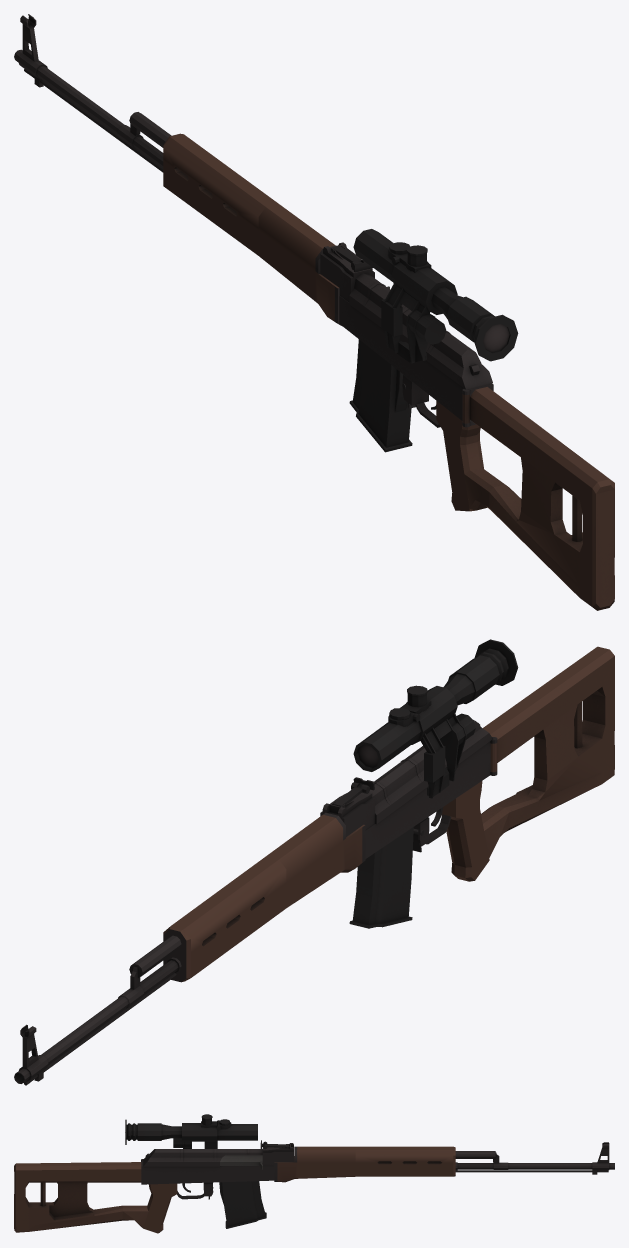
The model's file is SV_Sniper.fbx.
The picture shows the model from 3 angles, top to bottom: view 1: azimuth 30°, elevation 25°; view 2: azimuth 150°, elevation 25°; view 3: azimuth 270°, elevation 25°; orthographic projection. The views are drawn at different scales.
Visible parts, largest first — view 1: Stock_Sniper, Handguard_Sniper, PSO, Body, Magazine_Sniper, Barrel_Sniper, Grip; view 2: Stock_Sniper, Handguard_Sniper, PSO, Body, Barrel_Sniper, Magazine_Sniper, Grip; view 3: Stock_Sniper, Handguard_Sniper, Body, PSO, Barrel_Sniper, Magazine_Sniper, Grip, Bolt.
Boxes of the visible parts, left/top/right/bottom form: Stock_Sniper: left=462, top=387, right=614, bottom=610; Handguard_Sniper: left=163, top=133, right=342, bottom=326; PSO: left=353, top=229, right=518, bottom=363; Body: left=320, top=242, right=493, bottom=427; Magazine_Sniper: left=349, top=339, right=412, bottom=452; Barrel_Sniper: left=14, top=14, right=171, bottom=172; Grip: left=436, top=401, right=487, bottom=511; Stock_Sniper: left=481, top=646, right=614, bottom=857; Handguard_Sniper: left=163, top=812, right=365, bottom=982; PSO: left=353, top=639, right=518, bottom=798; Body: left=320, top=720, right=497, bottom=858; Barrel_Sniper: left=14, top=935, right=181, bottom=1085; Magazine_Sniper: left=349, top=827, right=413, bottom=928; Grip: left=441, top=781, right=489, bottom=881; Stock_Sniper: left=14, top=1162, right=148, bottom=1232; Handguard_Sniper: left=274, top=1146, right=455, bottom=1182; Body: left=141, top=1143, right=293, bottom=1199; PSO: left=125, top=1114, right=257, bottom=1148; Barrel_Sniper: left=455, top=1142, right=614, bottom=1174; Magazine_Sniper: left=219, top=1181, right=266, bottom=1228; Grip: left=141, top=1183, right=177, bottom=1233; Bolt: left=220, top=1155, right=262, bottom=1169.
Size of the model in its own units: 5.56 by 22.69 by 108.
